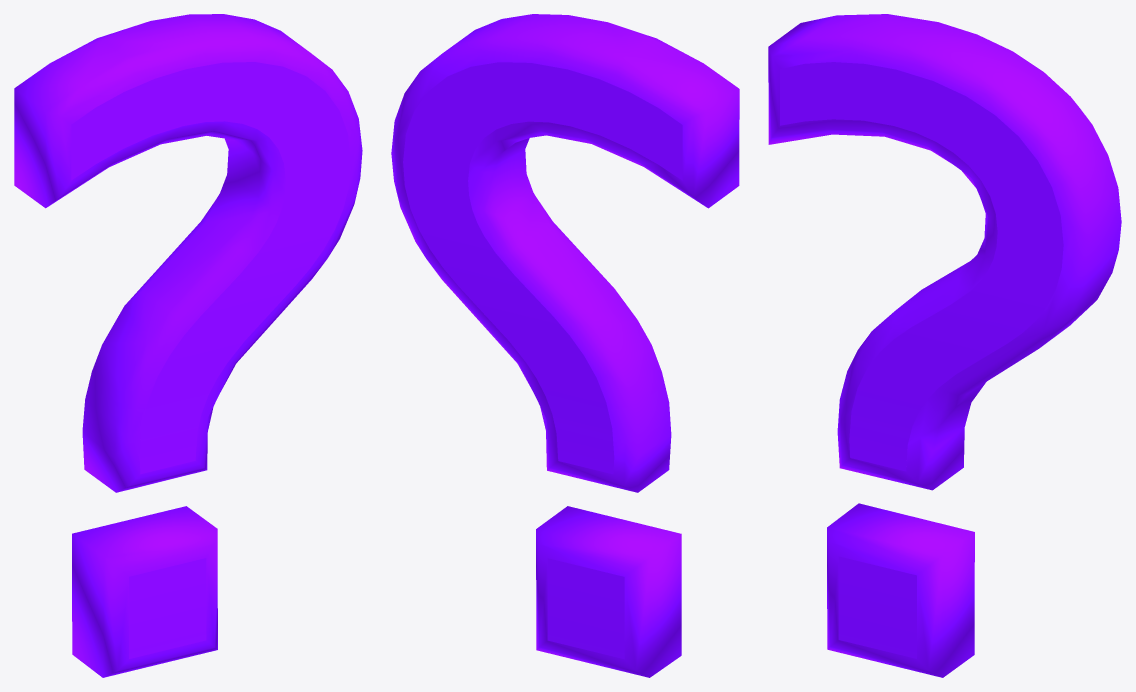
3 renders of one model, left to right at view 1: azimuth 30°, elevation 25°; view 2: azimuth 150°, elevation 25°; view 3: azimuth 330°, elevation 25°, orthographic.
Parts seen in each view (by area): view 1: IndicatorQuestionMarkPurple; view 2: IndicatorQuestionMarkPurple; view 3: IndicatorQuestionMarkPurple.
Boxes of the visible parts, x1,y1,x2,y2 form: IndicatorQuestionMarkPurple: [14, 14, 362, 677]; IndicatorQuestionMarkPurple: [391, 14, 739, 677]; IndicatorQuestionMarkPurple: [768, 14, 1121, 677].
Bounding box in the file's own units: 0.2591 × 0.4808 × 0.0645.
Materials: 1 (1 with a texture image).
